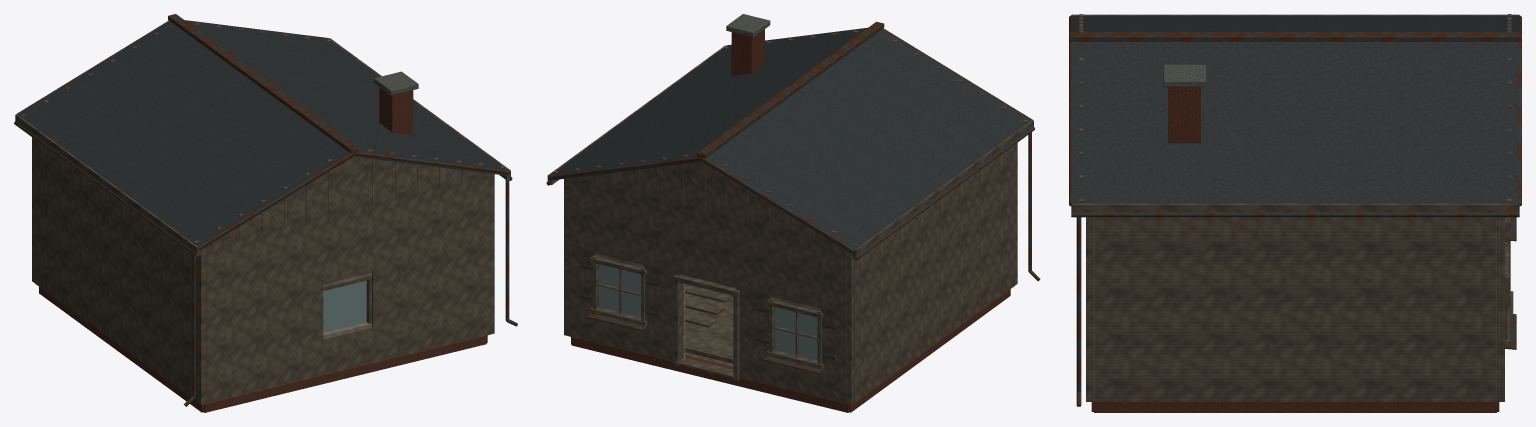
The model's file is Farmhouse_LOD1.fbx.
3 views of the same model, side by side, from view 1: azimuth 30°, elevation 25°; view 2: azimuth 150°, elevation 25°; view 3: azimuth 270°, elevation 25° (orthographic). The views are drawn at different scales.
Visible parts, largest first — view 1: Farmhouse_LOD1; view 2: Farmhouse_LOD1; view 3: Farmhouse_LOD1.
Boxes of the visible parts, bbox=[...] form: Farmhouse_LOD1: bbox=[14, 14, 517, 412]; Farmhouse_LOD1: bbox=[546, 14, 1040, 412]; Farmhouse_LOD1: bbox=[1069, 14, 1521, 412].
Bounding box in the file's own units: 945 × 673 × 899.
